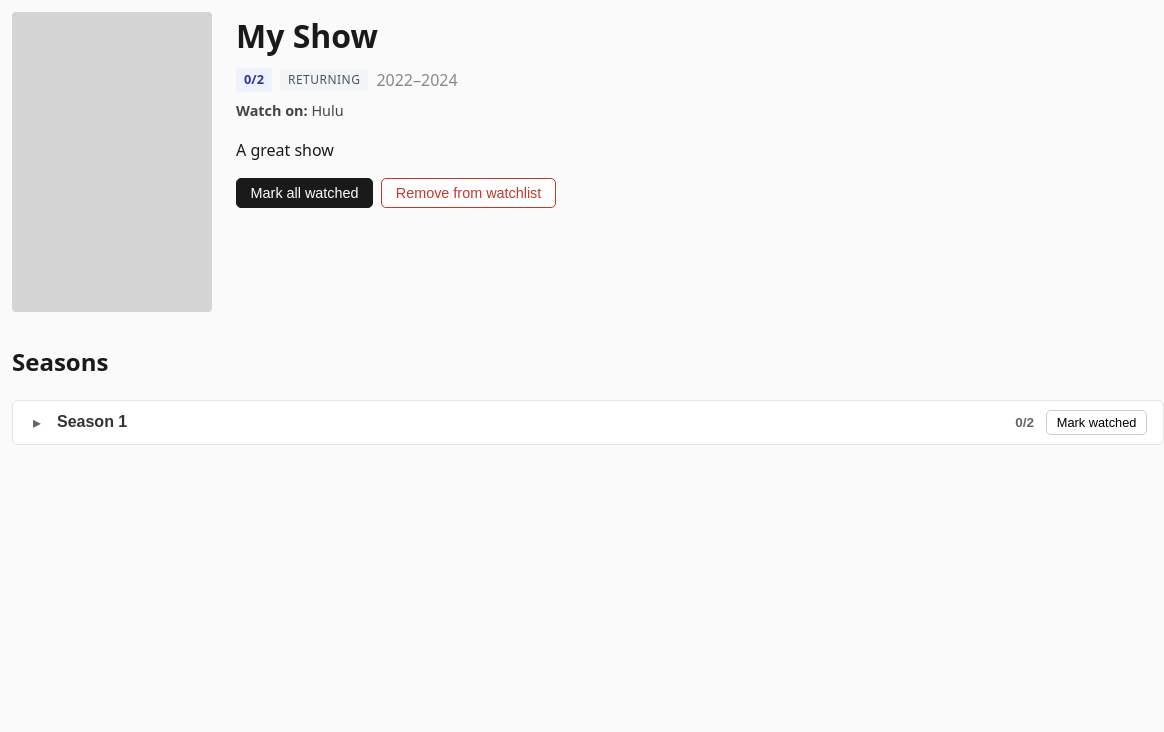
Test: ShowDetail › toggles a season and renders episode list
The width and height of the screenshot is (1164, 732).
Expected: the heading "My Show" is shown, [236,14,378,57]
Expected: the text "Pilot" is not shown
Click the button "▸ Season 1 0/2": click(92, 422) [29,409,1034,436]
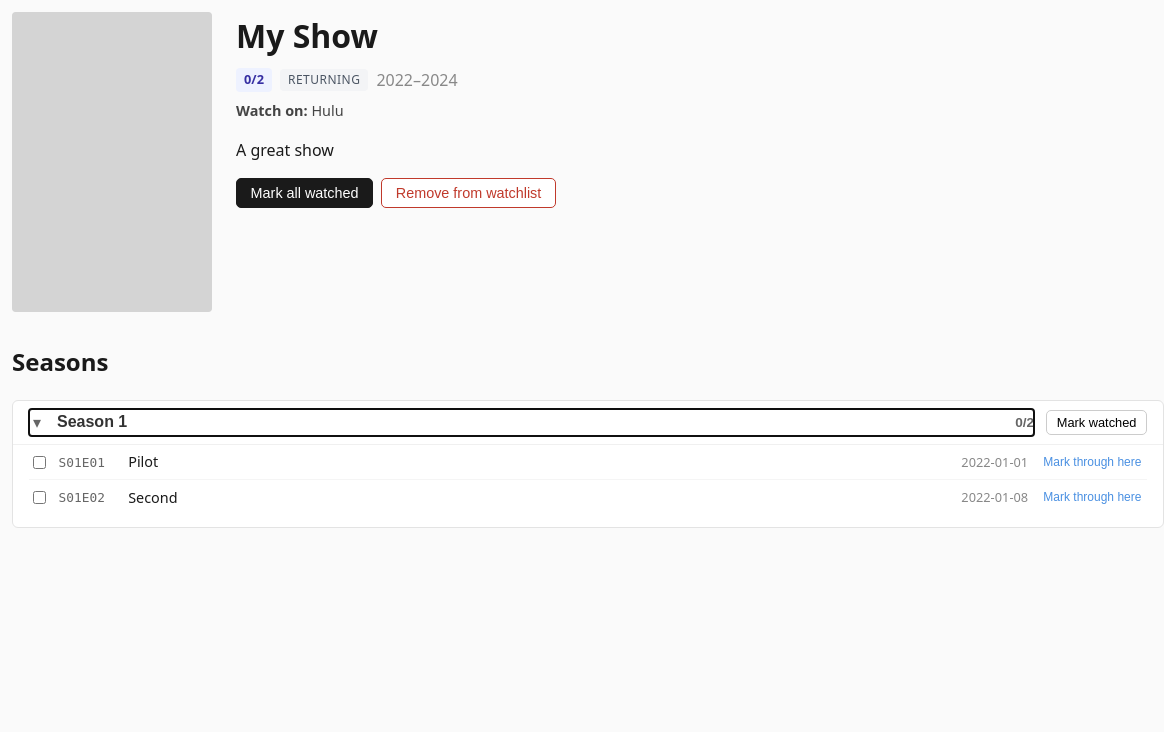
Expected: the text "Pilot" is shown, [128,452,158,471]
Expected: the text "S01E01" is shown, [59,454,105,470]
Note: Closing collapses
Click the button "▾ Season 1 0/2": click(92, 422) [29,409,1034,436]
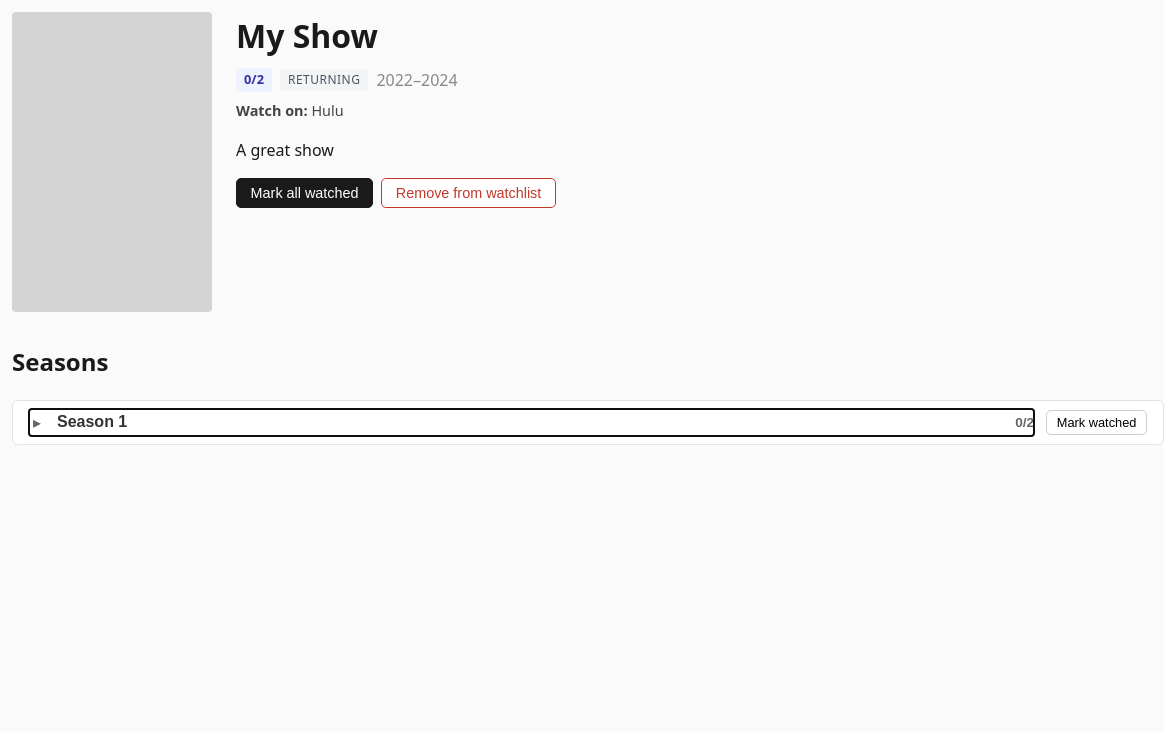
Expected: the text "Pilot" is gone
